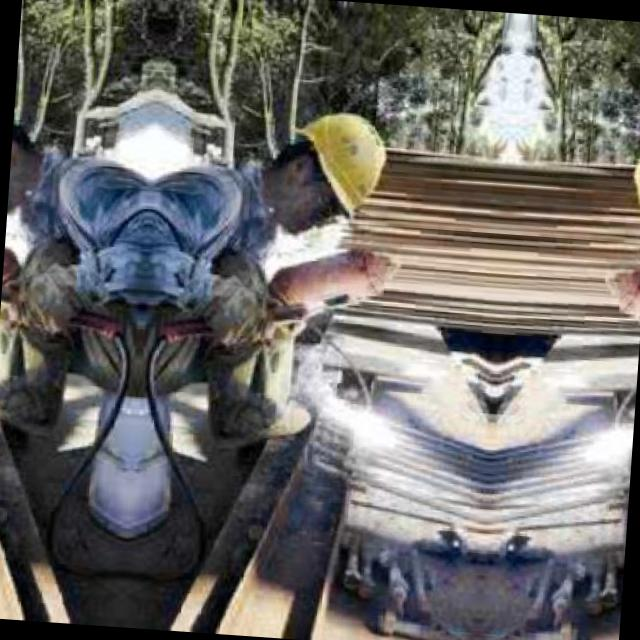helmet: (266, 90, 403, 222), (613, 113, 640, 241)
